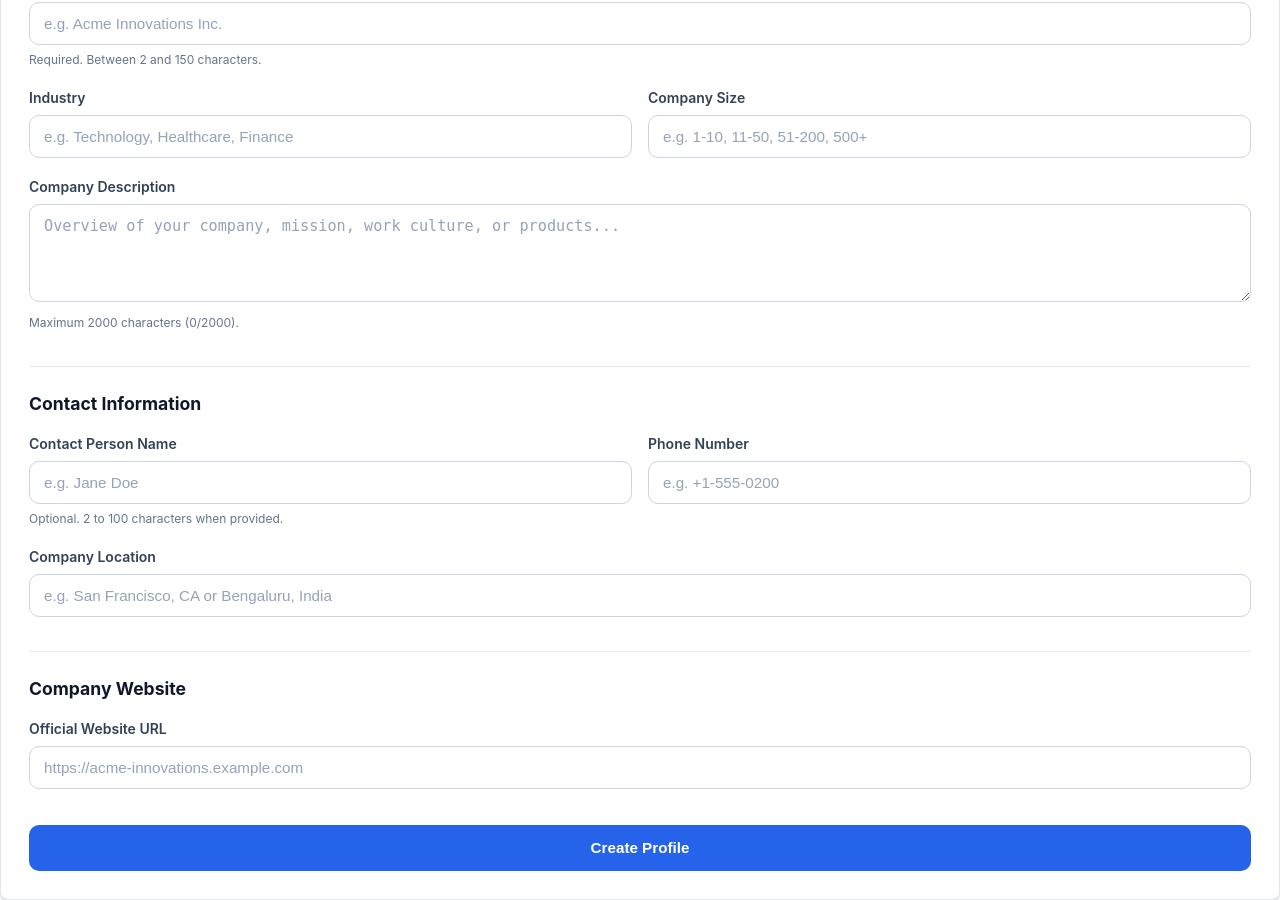
Test: RecruiterProfilePage — Comprehensive F-04 Scenarios › Client-Side Form Validation › validates required company_name and min length (>= 2)
(page scrolled)
Note: Empty submit
Click the button "Create Profile": [640, 848] box [29,825,1251,871]
(page scrolled)
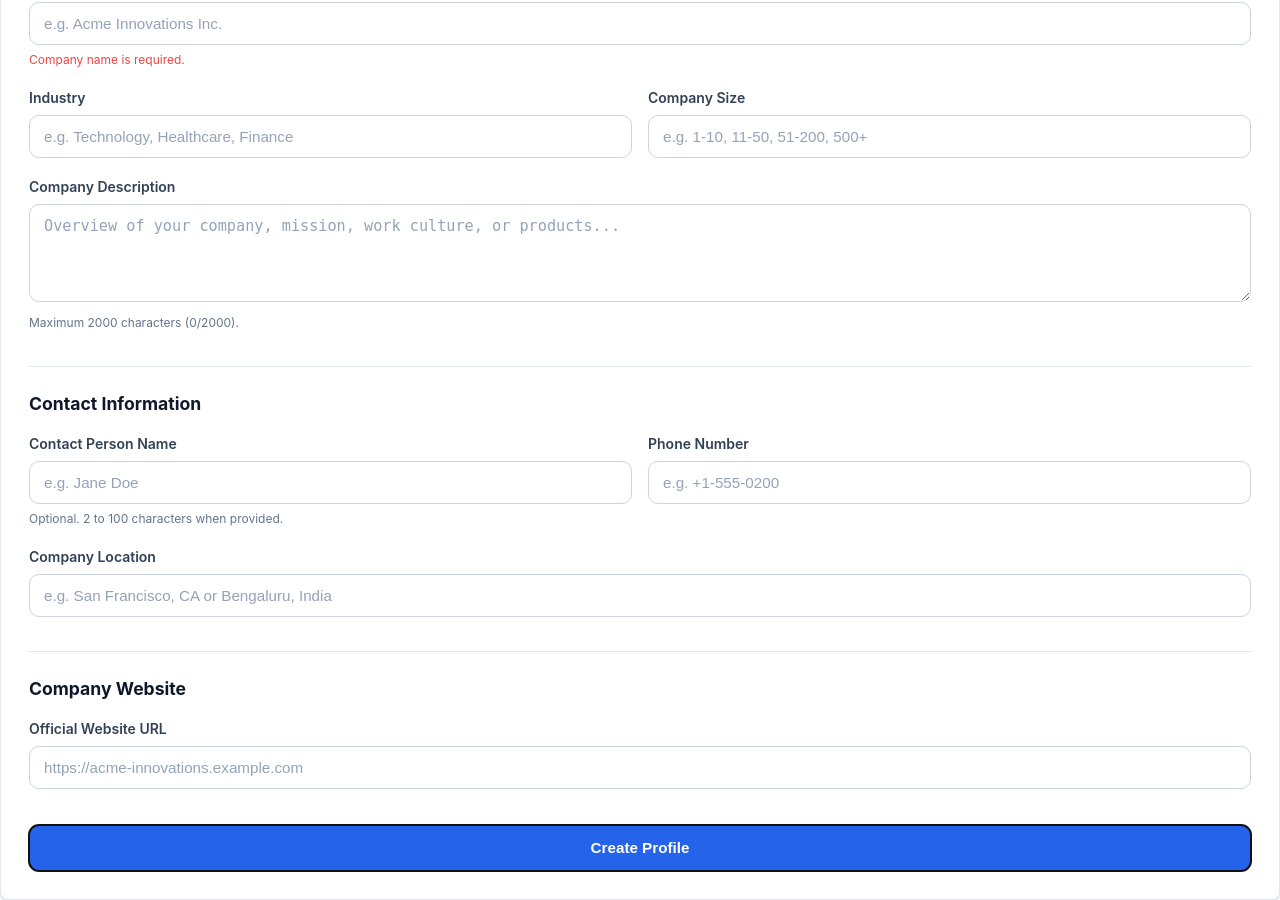
Now the text "Company name is required." is shown, box [29,52,185,67]
Note: 1-character submit
In the field labelled "Company Name *": [640, 24] box [29,2,1251,45], type "A"
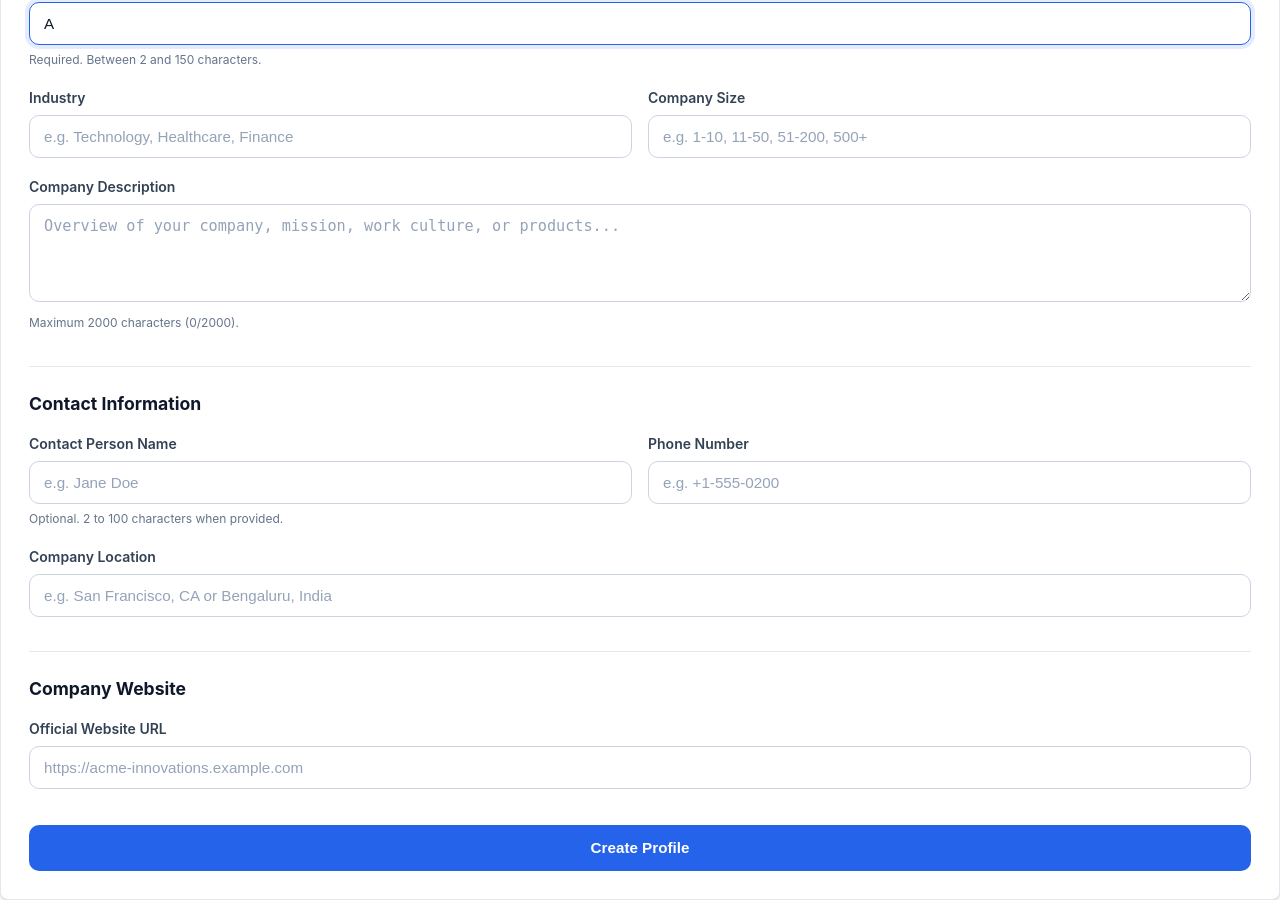
Click the button "Create Profile": [640, 848] box [29,825,1251,871]
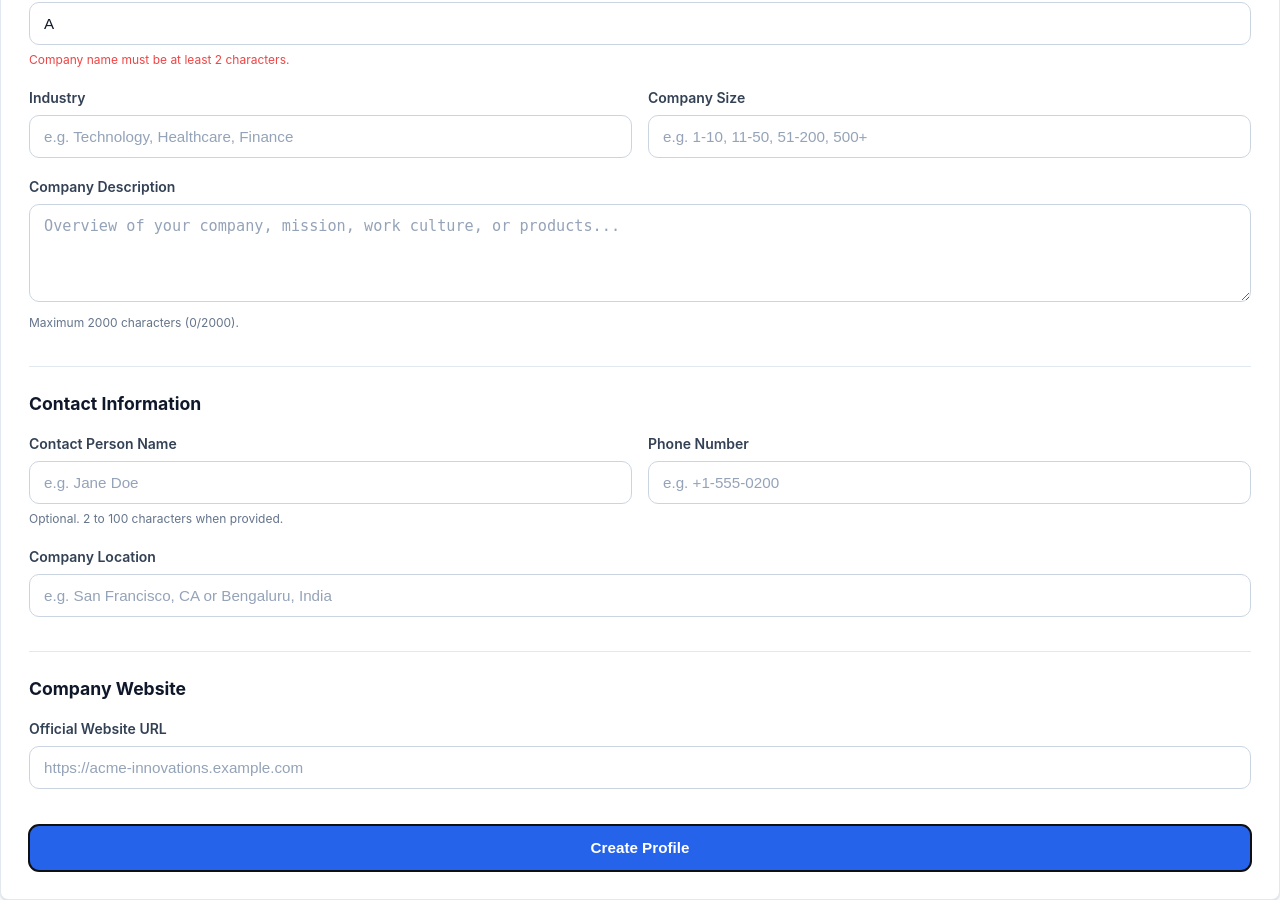
Now the text "Company name must be at least 2 characters." is shown, box [29,52,289,67]
